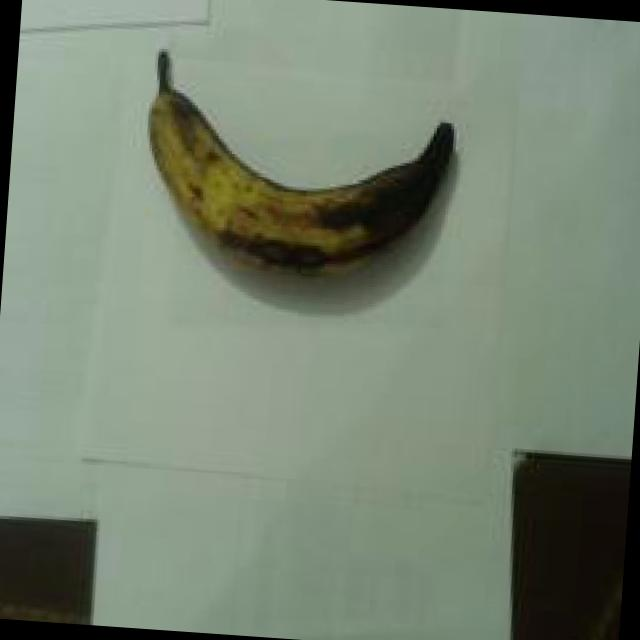Rotten_Banana: (121, 84, 479, 306)
